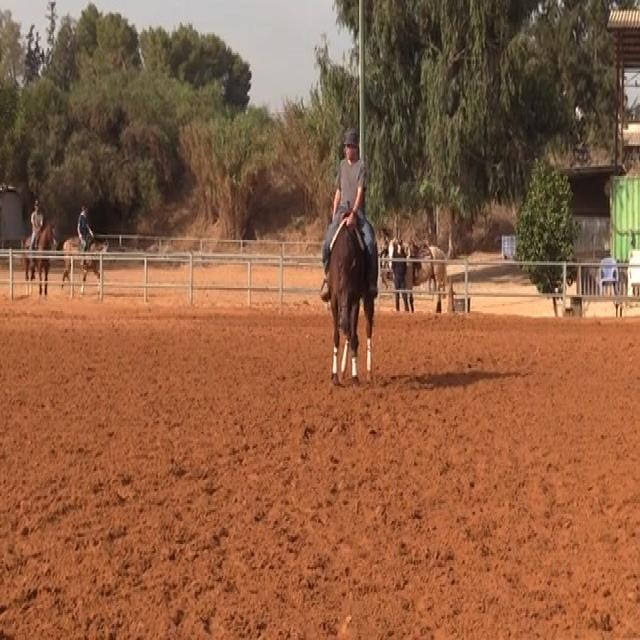horse: (324, 212, 379, 388)
